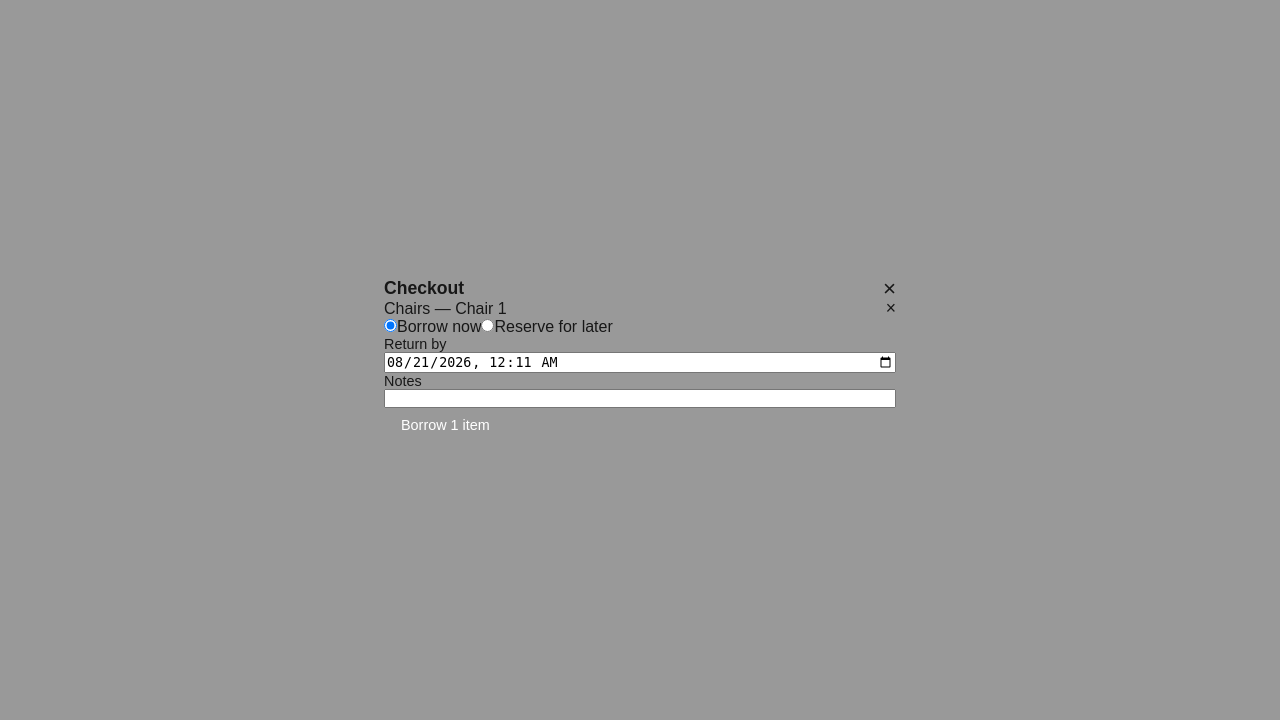
it: removing an entry drops it from the list
Step 1. Click the button named "Remove Chair 1 from cart" → {"x": 891, "y": 309}, box [886,300,896,318]
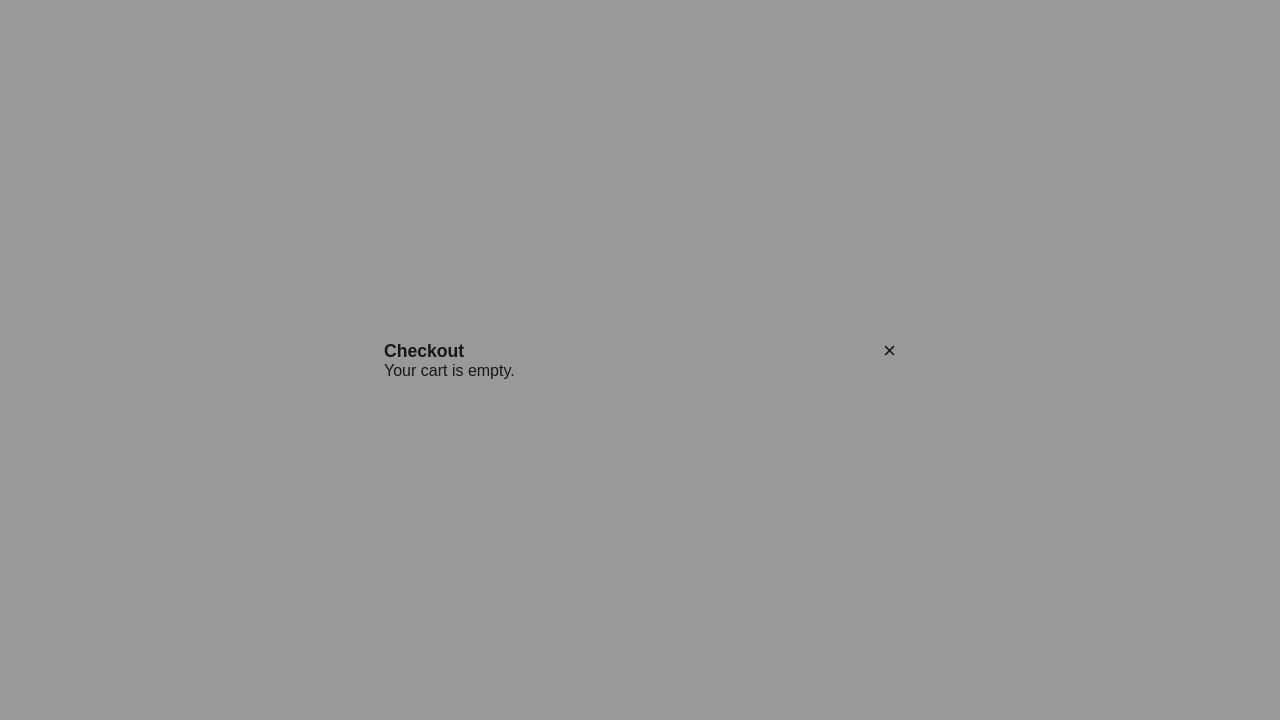
Check: the text "Your cart is empty." is shown, box [384,362,515,379]
